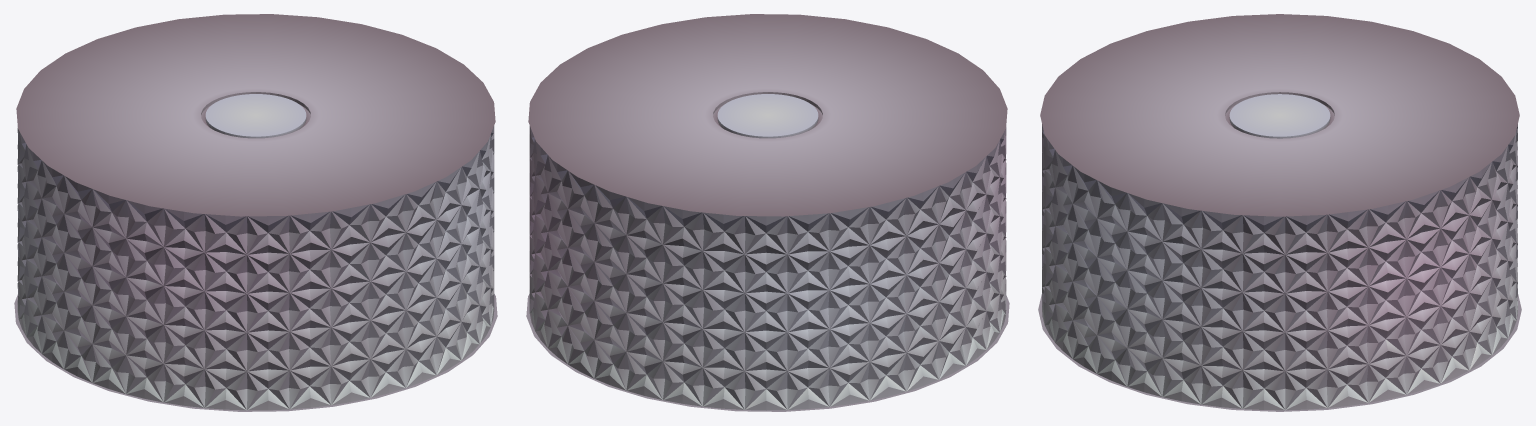
Rendered from BackgroundLobby.fbx.
3 renders of one model, left to right at view 1: azimuth 30°, elevation 25°; view 2: azimuth 150°, elevation 25°; view 3: azimuth 270°, elevation 25°, orthographic.
Visible parts, largest first — view 1: Alcove; view 2: Alcove; view 3: Alcove.
Part boxes in pixels (x1,y1,x2,y2): Alcove: [14, 14, 497, 411]; Alcove: [526, 14, 1009, 411]; Alcove: [1038, 14, 1521, 411].
Bounding box in the file's own units: 609 × 270 × 609.
